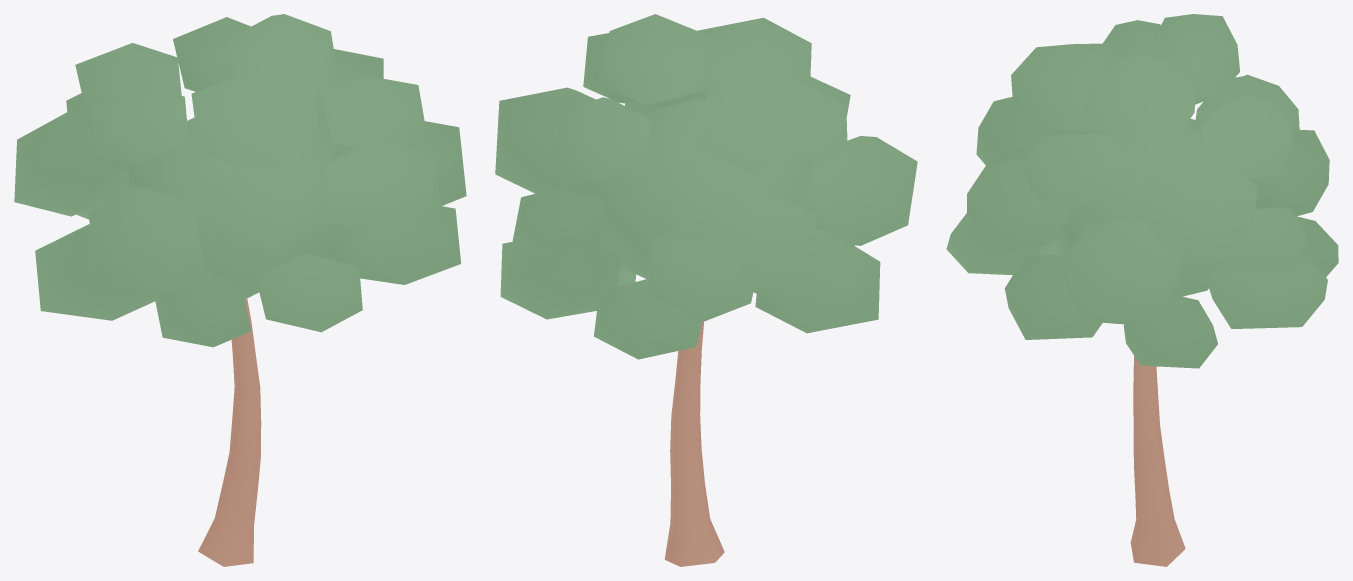
Rendered from Blender_Tanoak_1_Far.glb.
3 renders of one model, left to right at view 1: azimuth 30°, elevation 25°; view 2: azimuth 150°, elevation 25°; view 3: azimuth 270°, elevation 25°, orthographic. The views are drawn at different scales.
Visible parts, largest first — view 1: Blender_Tanoak_1_Far; view 2: Blender_Tanoak_1_Far; view 3: Blender_Tanoak_1_Far.
Boxes of the visible parts, <box> form: Blender_Tanoak_1_Far: <box>14,14,466,566</box>; Blender_Tanoak_1_Far: <box>495,14,917,566</box>; Blender_Tanoak_1_Far: <box>946,14,1338,566</box>.
Bounding box in the file's own units: 15.44 × 19.82 × 13.46.
